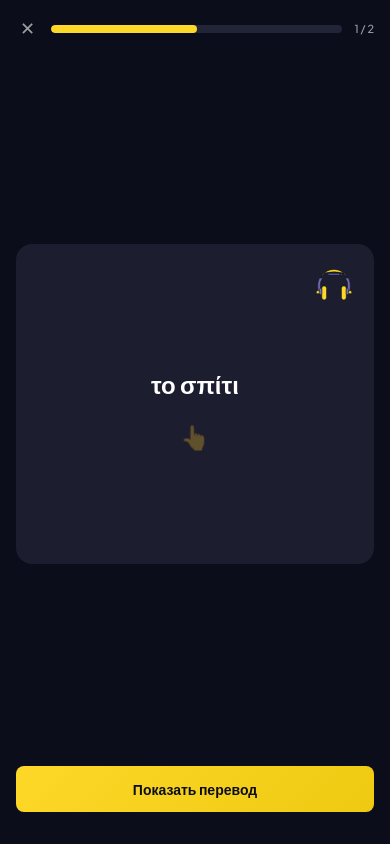
Test: FlashcardScreen › shows translation after clicking Показать
expect the text "το σπίτι" is shown: met, box [151,370,239,398]
Step 1. Click the button "Показать перевод" → (195, 789), box [16,766,374,812]
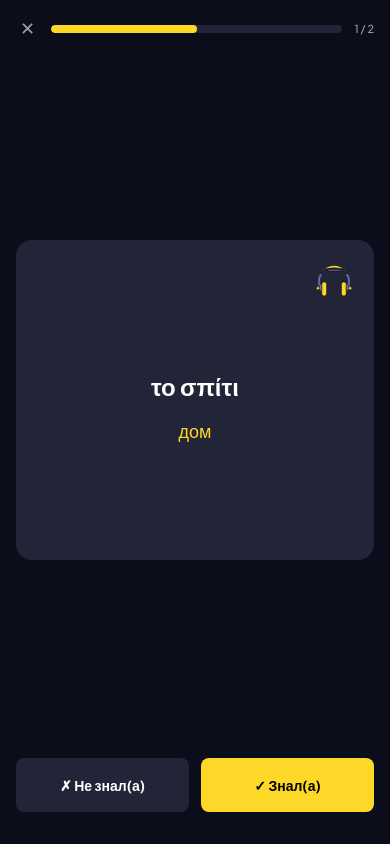
expect the text "дом" is shown: met, box [178,417,211,444]
